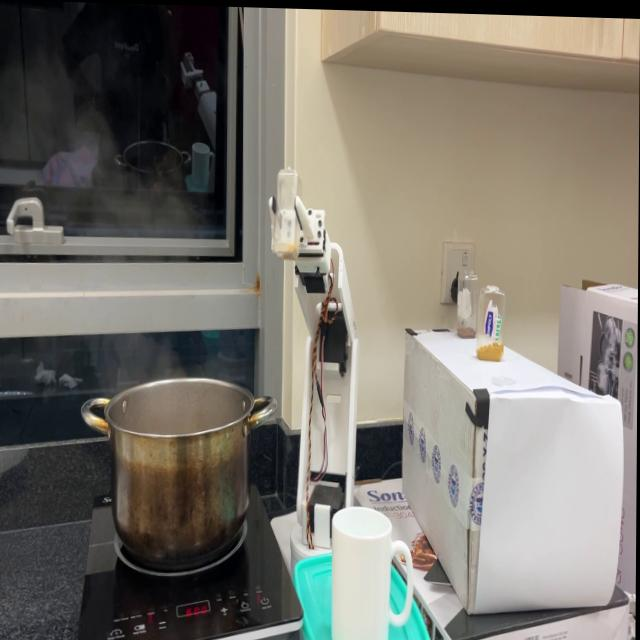cooking_pot: (80, 372, 283, 572)
curry_powder: (481, 339, 506, 357)
garlic_powder: (281, 235, 301, 259)
maggie_open: (458, 319, 478, 338)
